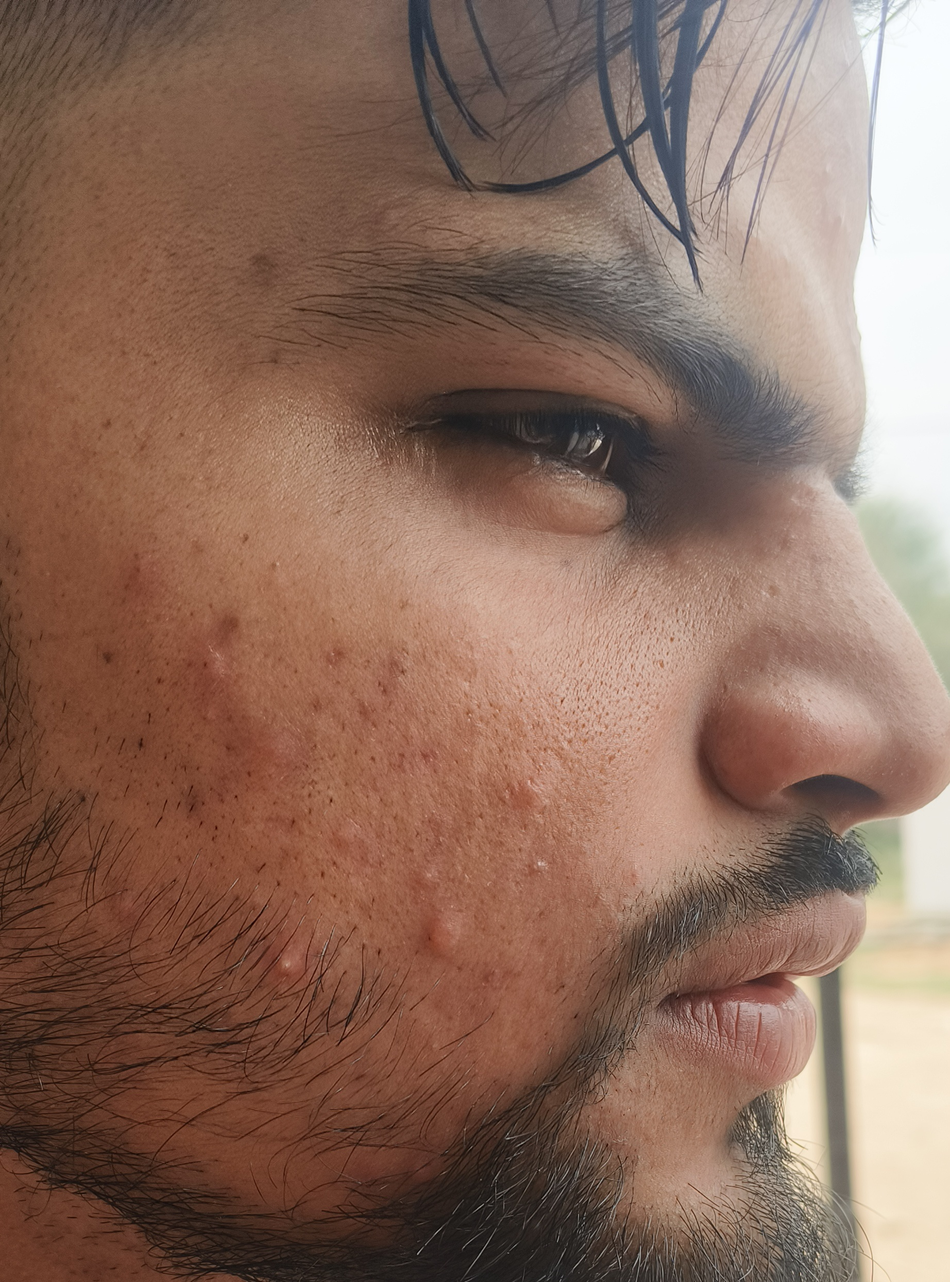papule: (185, 627, 276, 712), (511, 769, 566, 828), (414, 907, 473, 955)
pustule: (274, 938, 306, 995)
